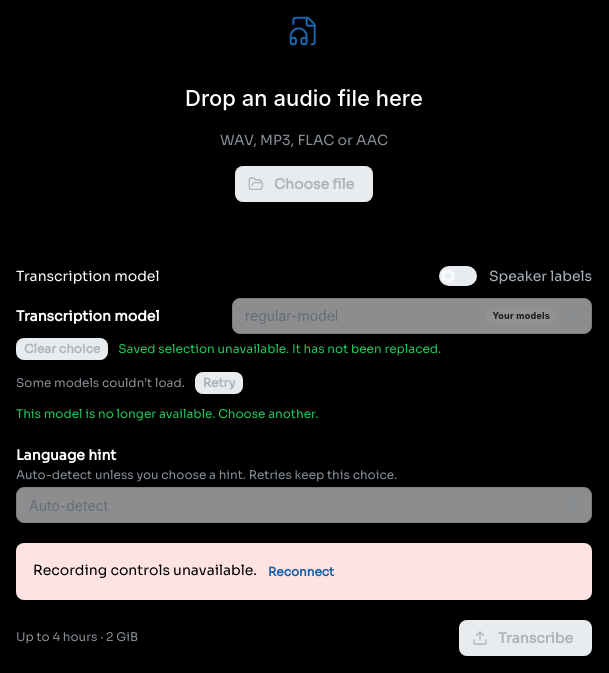
Test: File transcription › shows a reconnect action instead of silently disabling the page after a state failure
Check: the button "Transcribe" is disabled, box top-left (459, 620), bottom-right (592, 656)
Step 1. Click the button "Reconnect" → (301, 572), box top-left (260, 561), bottom-right (342, 583)
Wait 2 ms
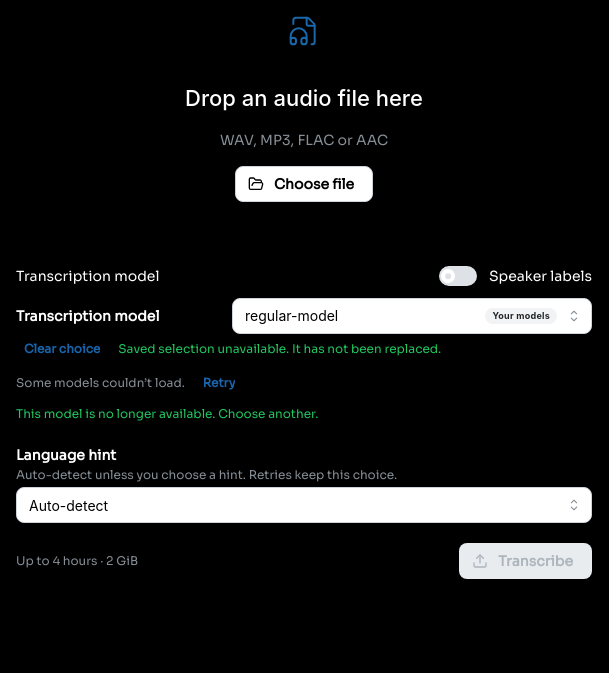
Check: the text "Recording controls unavailable" is gone
